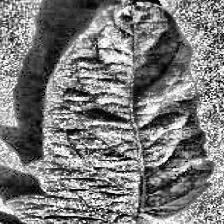spider mites: (2, 0, 212, 224)
